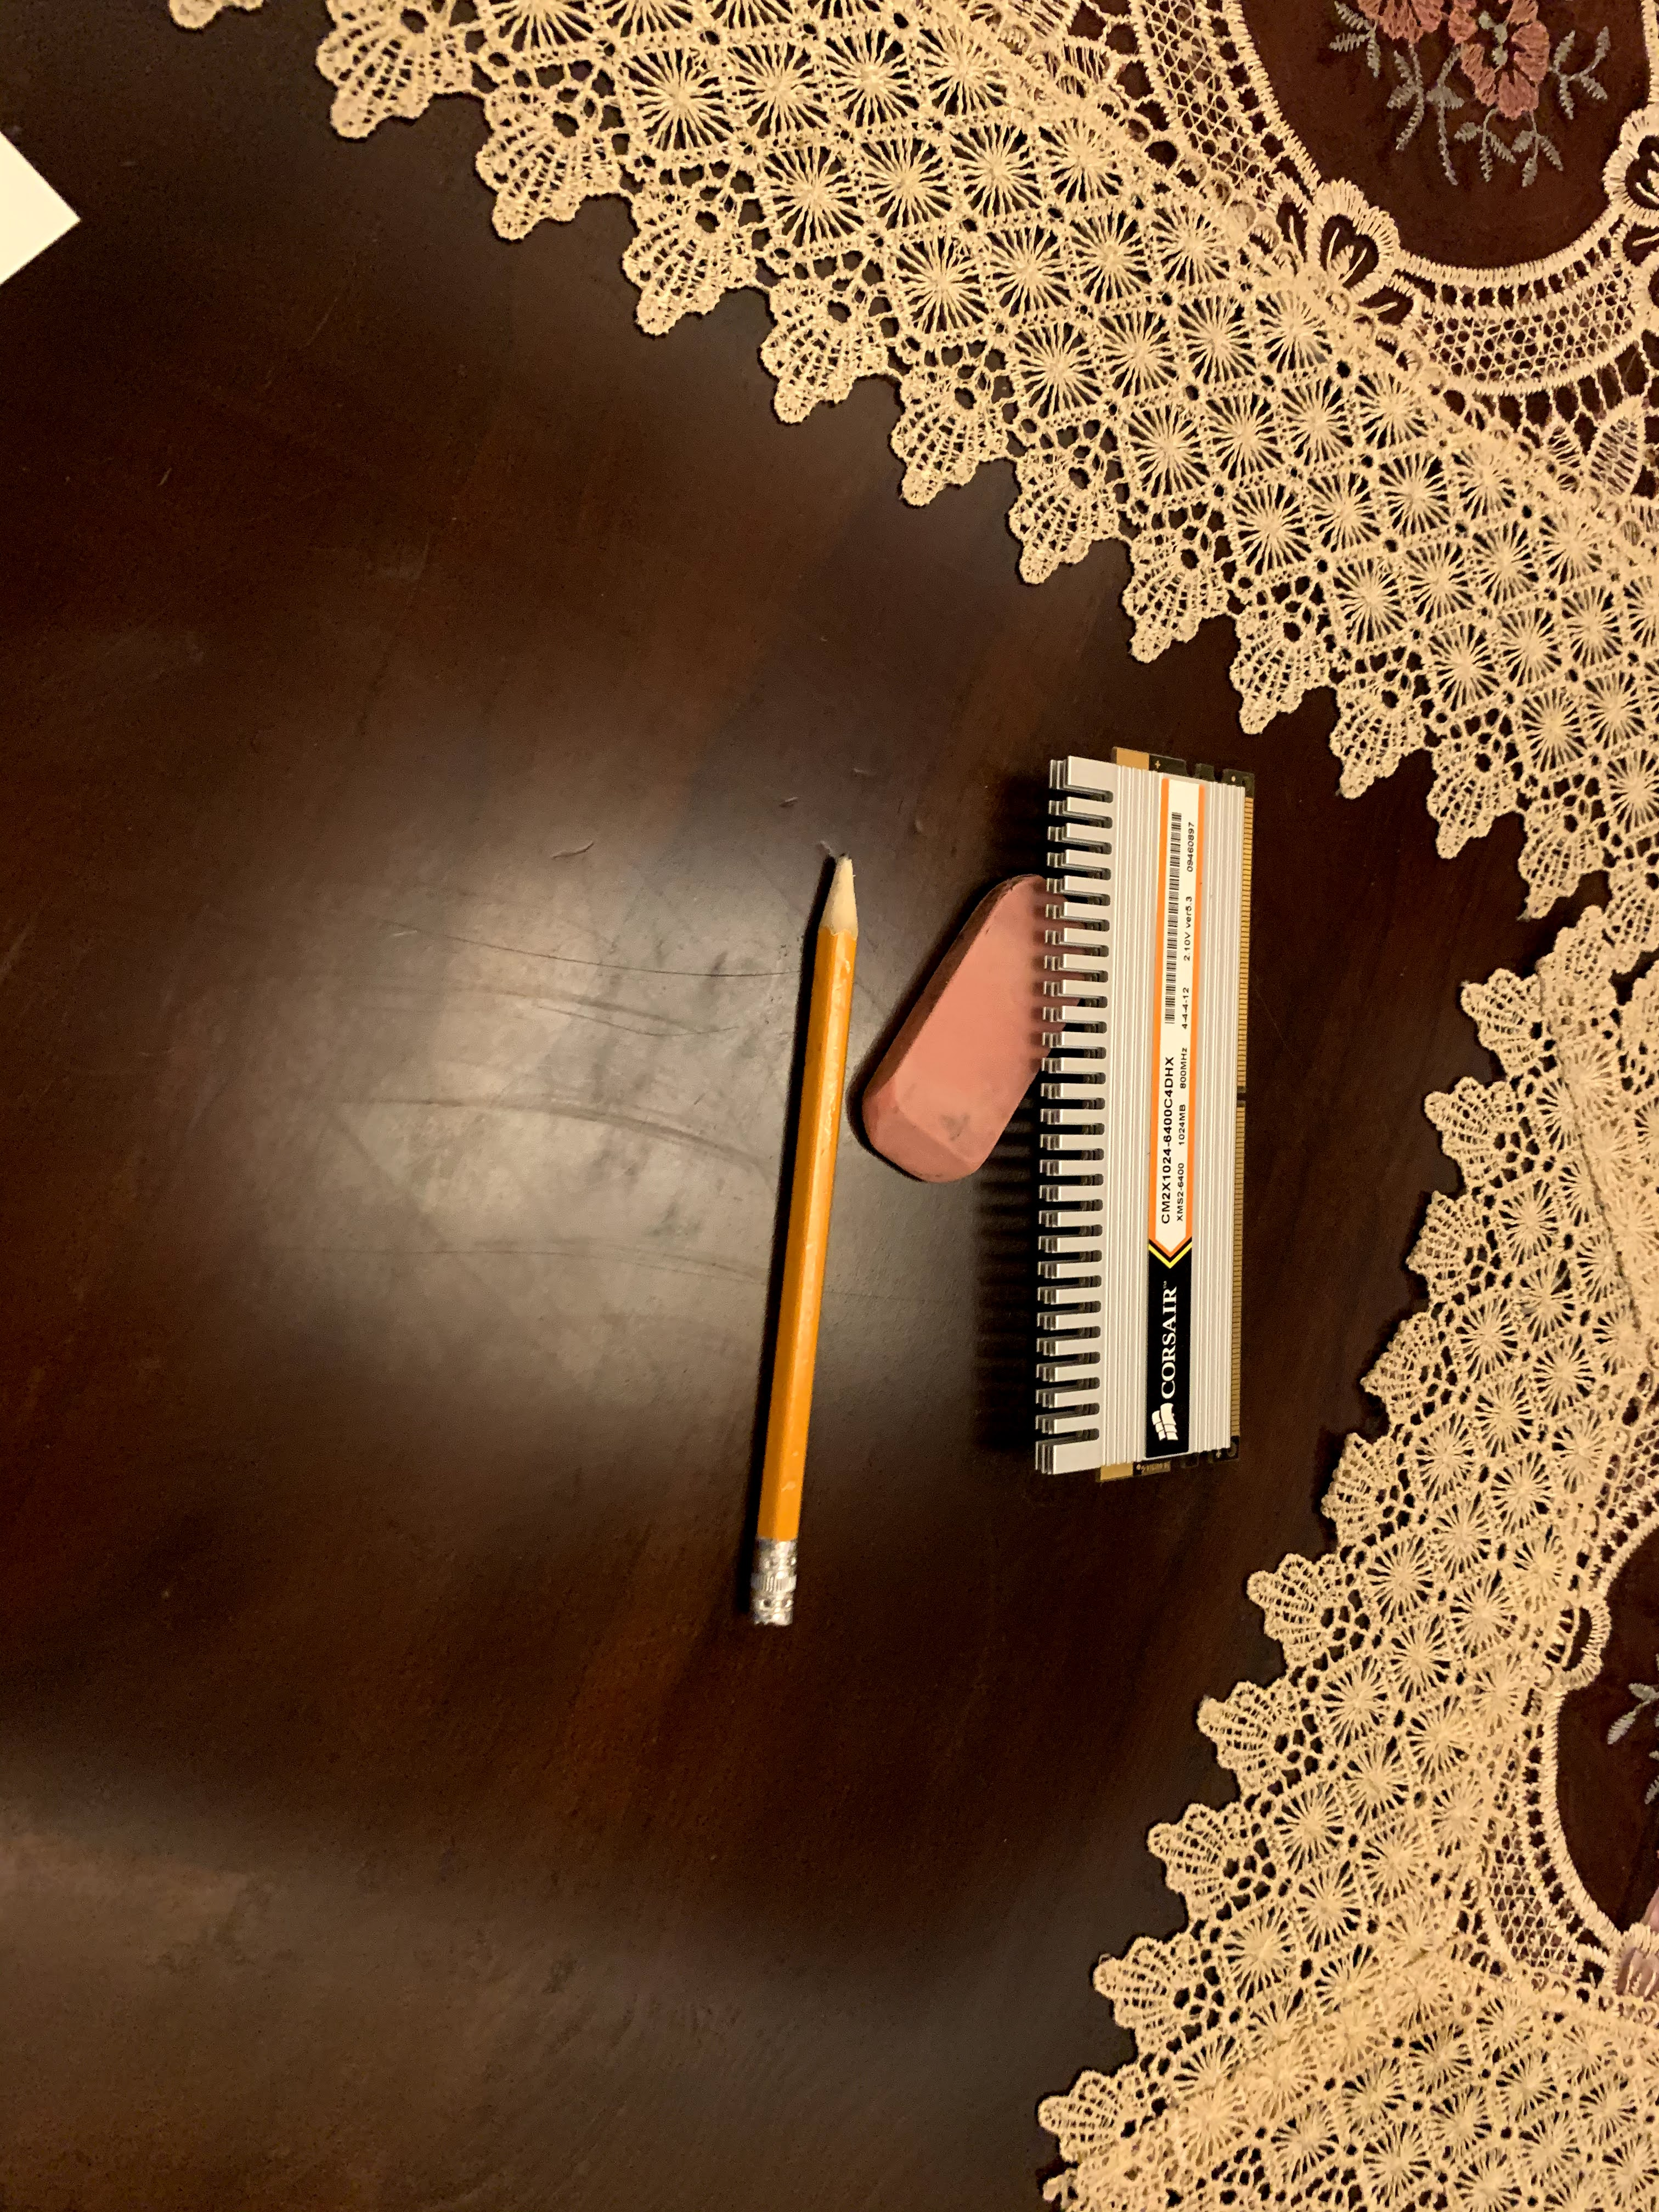Space-debris-medium: (1023, 719, 1321, 1507)
